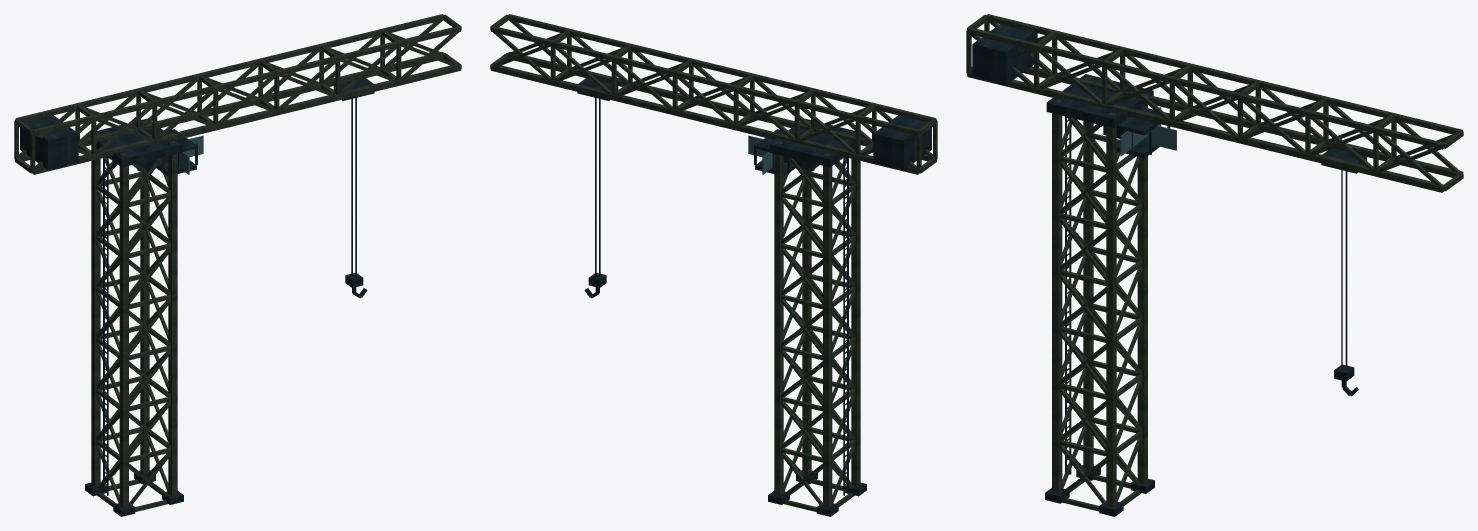
File: harbor_crane.gltf
3 views of the same model, side by side, from view 1: azimuth 30°, elevation 25°; view 2: azimuth 150°, elevation 25°; view 3: azimuth 330°, elevation 25° (orthographic). The views are drawn at different scales.
Parts seen in each view (by area): view 1: MorrowBay_LatticeCrane; view 2: MorrowBay_LatticeCrane; view 3: MorrowBay_LatticeCrane.
Boxes of the visible parts, x1,y1,x2,y2 form: MorrowBay_LatticeCrane: (14, 14, 461, 516); MorrowBay_LatticeCrane: (490, 14, 937, 516); MorrowBay_LatticeCrane: (966, 14, 1463, 516).
Size of the model in its own units: 35.3 by 31.3 by 5.15.
3 materials, 2 textured.
